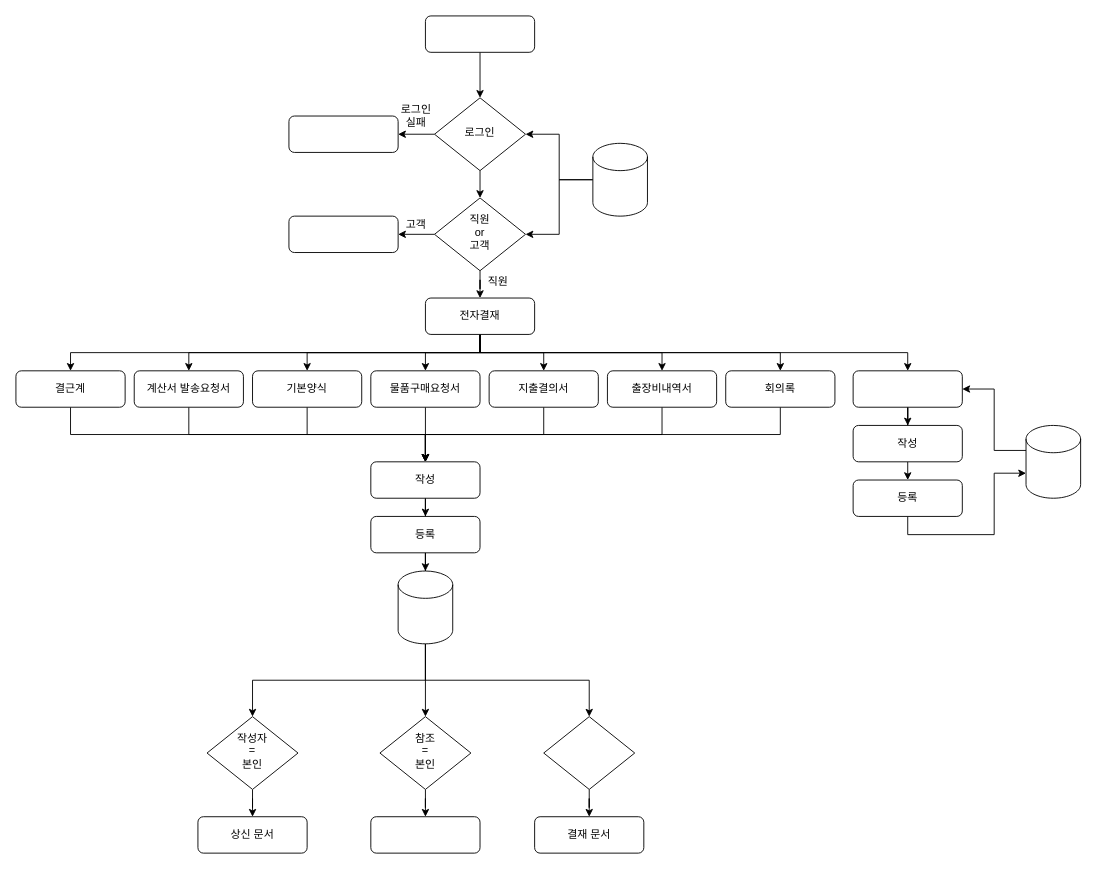
Image size: 1097x869. Some labels were removed from this diagram. The centre of each missing label's shape, as x and y in pixels:
결재 = 본인: point (589, 752)
고객관리 페이지: point (343, 234)
로그인 실패 알림: point (343, 133)
사이트 접근 (start): point (480, 33)
월/반차 외출신청 리스트: point (907, 388)
월/반차/외출 DB: point (1053, 461)
전자결제 DB: point (425, 607)
참조 문서: point (425, 834)
회원DB: point (619, 179)
